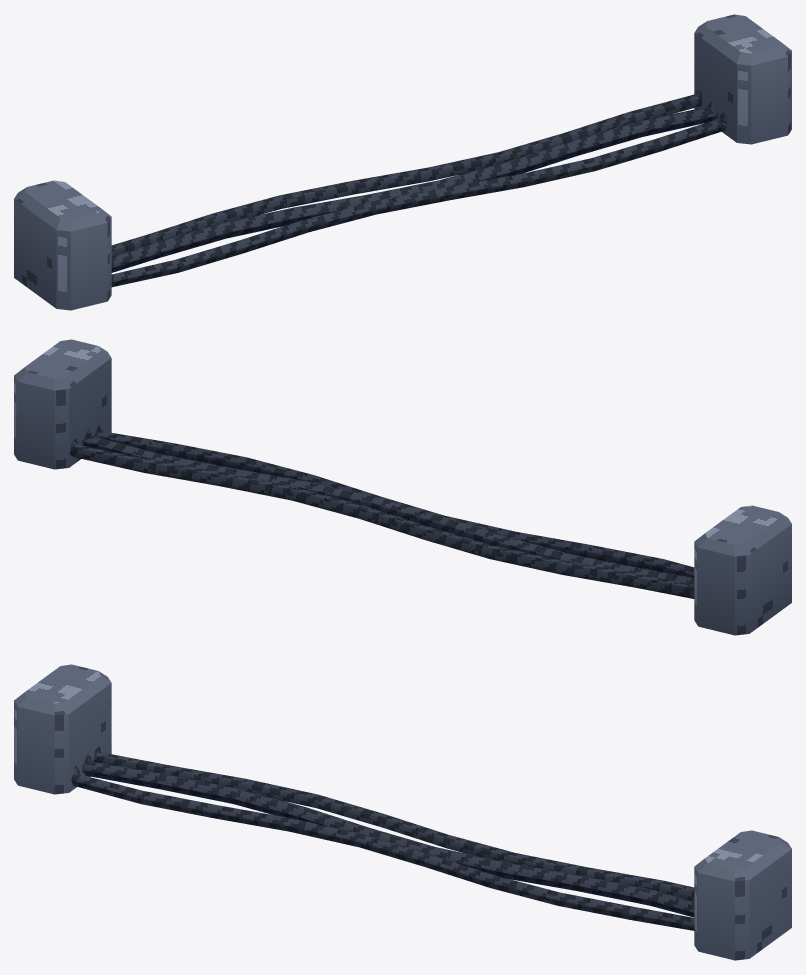
The model's file is tech.cables.glb.
3 views of the same model, one above another, from view 1: azimuth 30°, elevation 25°; view 2: azimuth 150°, elevation 25°; view 3: azimuth 330°, elevation 25° (orthographic).
Visible parts, largest first — view 1: kit_boxes, kit_cable_1, kit_cable_0, kit_cable_2; view 2: kit_boxes, kit_cable_2, kit_cable_1, kit_cable_0; view 3: kit_boxes, kit_cable_1, kit_cable_0, kit_cable_2.
Boxes of the visible parts, x1,y1,x2,y2 form: kit_boxes: (14,14,791,310); kit_cable_1: (111,99,716,272); kit_cable_0: (111,111,727,287); kit_cable_2: (111,90,701,256); kit_boxes: (14,339,791,635); kit_cable_2: (70,438,694,598); kit_cable_1: (83,426,694,584); kit_cable_0: (95,422,694,577); kit_boxes: (14,664,791,960); kit_cable_1: (83,752,694,917); kit_cable_0: (71,765,694,930); kit_cable_2: (93,746,694,900).
Size of the model in its own units: 4 by 0.45 by 0.5.
Materials: 2 (2 with a texture image).
